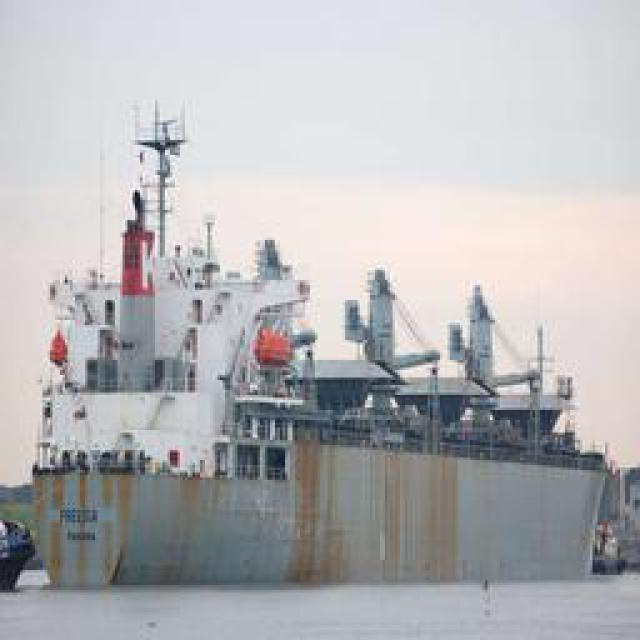Ship: (23, 90, 615, 594)
